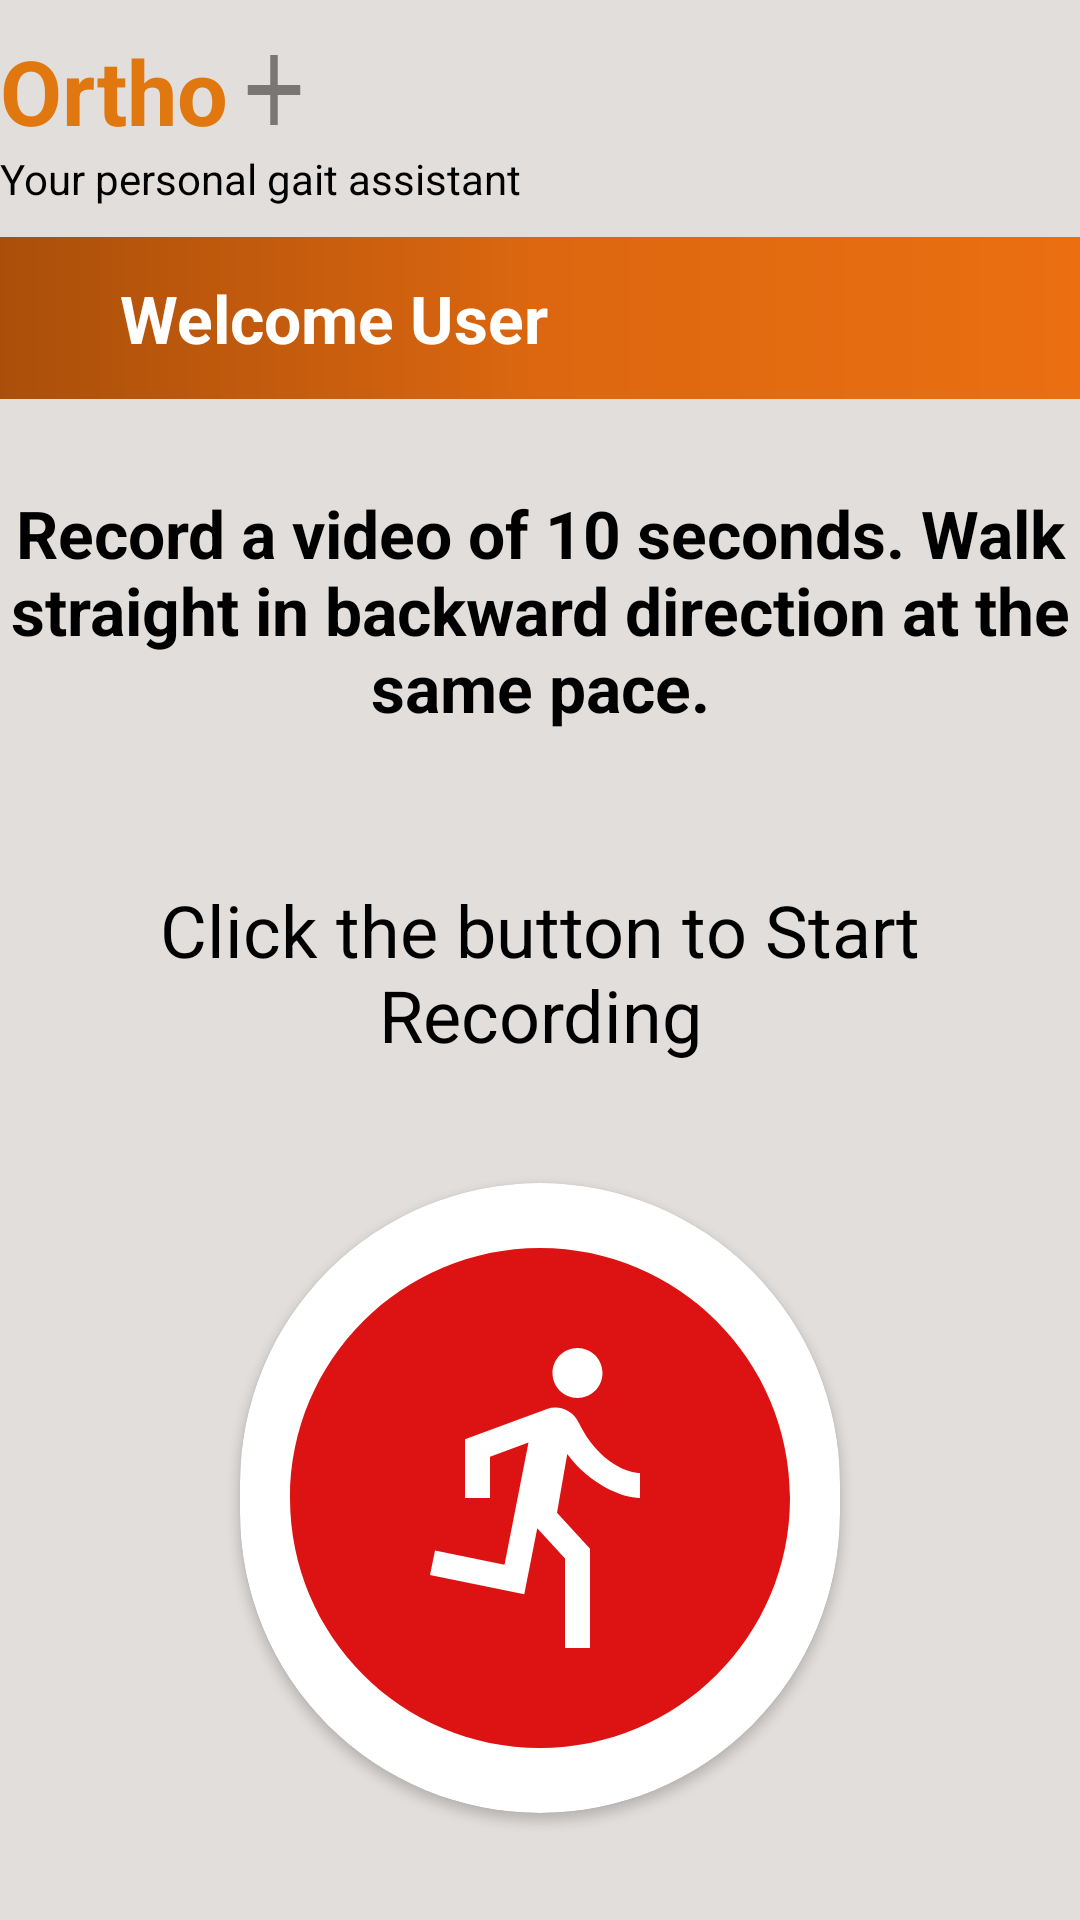

Icon click points for this 1080 × 1920 phone screenshot, format (x,y):
add: (274,90)
